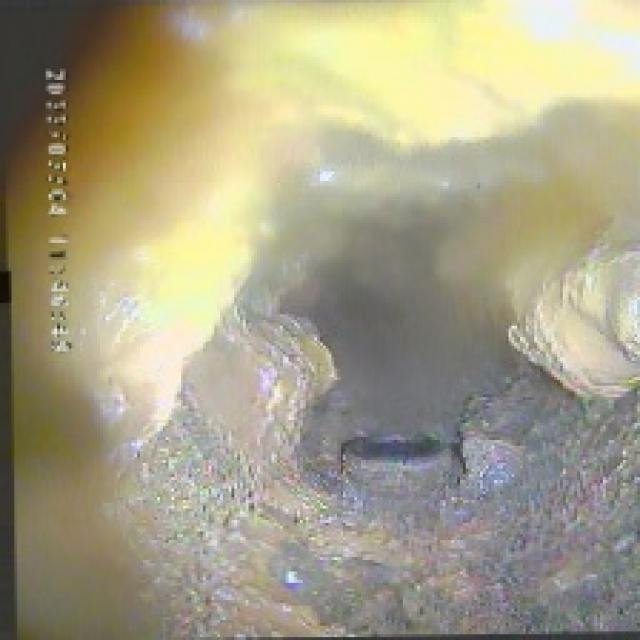encrustation: (214, 294, 623, 583)
ferrule: (328, 414, 448, 483)
